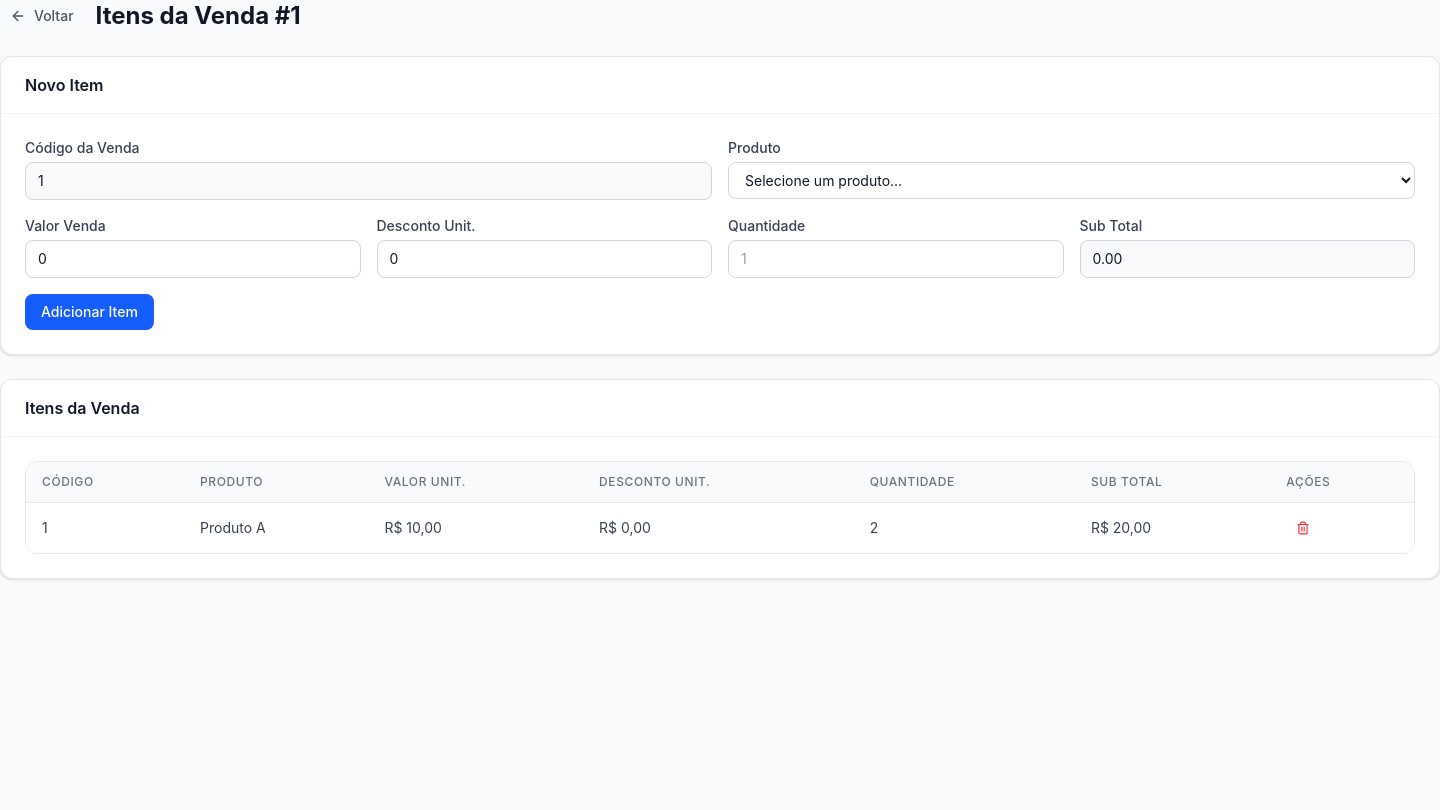
VendaItemPage › should close the confirm modal when cancelling delete
Click the button titled "Excluir": (1303, 528) [1286,515,1320,541]
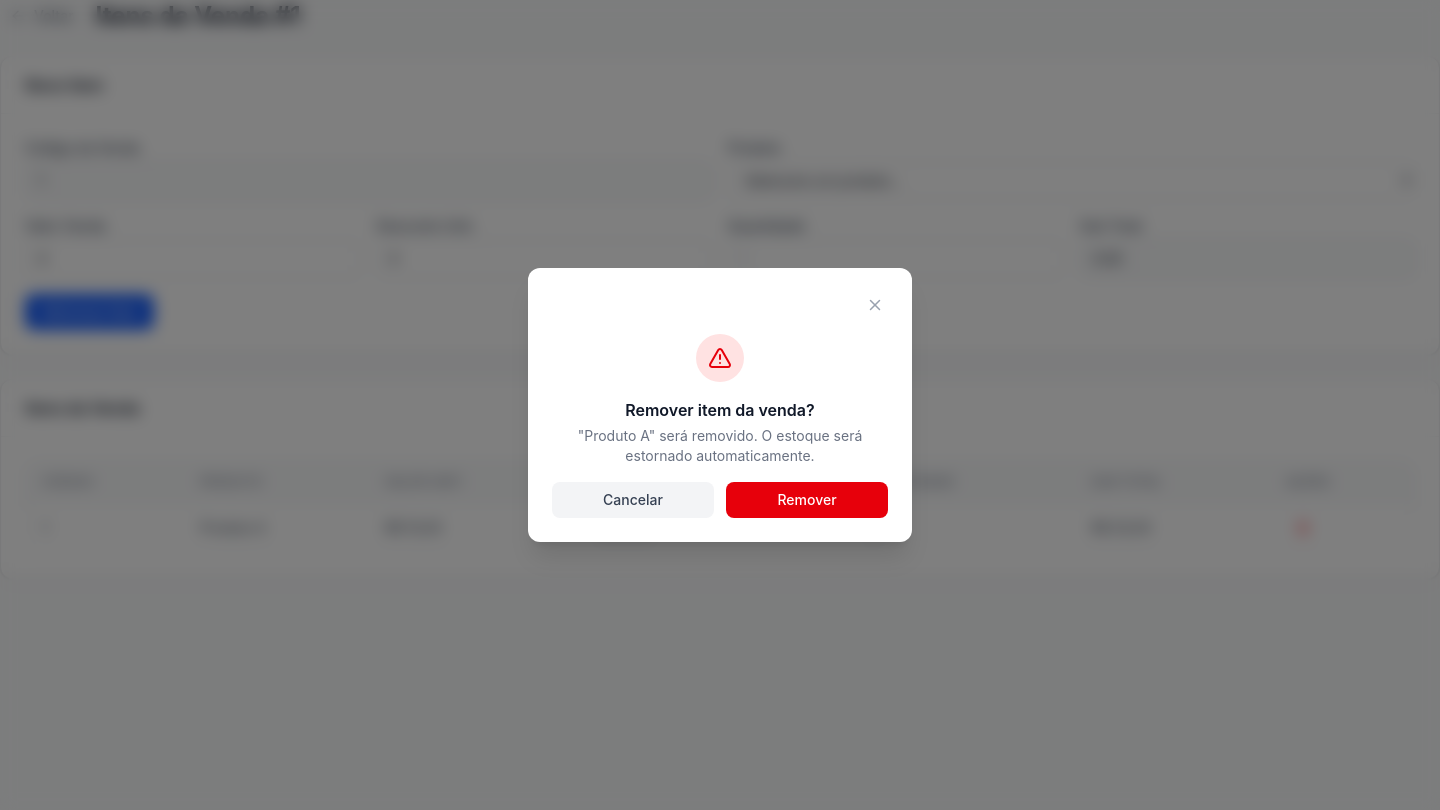
Click the button "Cancelar": (633, 500) [552,482,714,518]
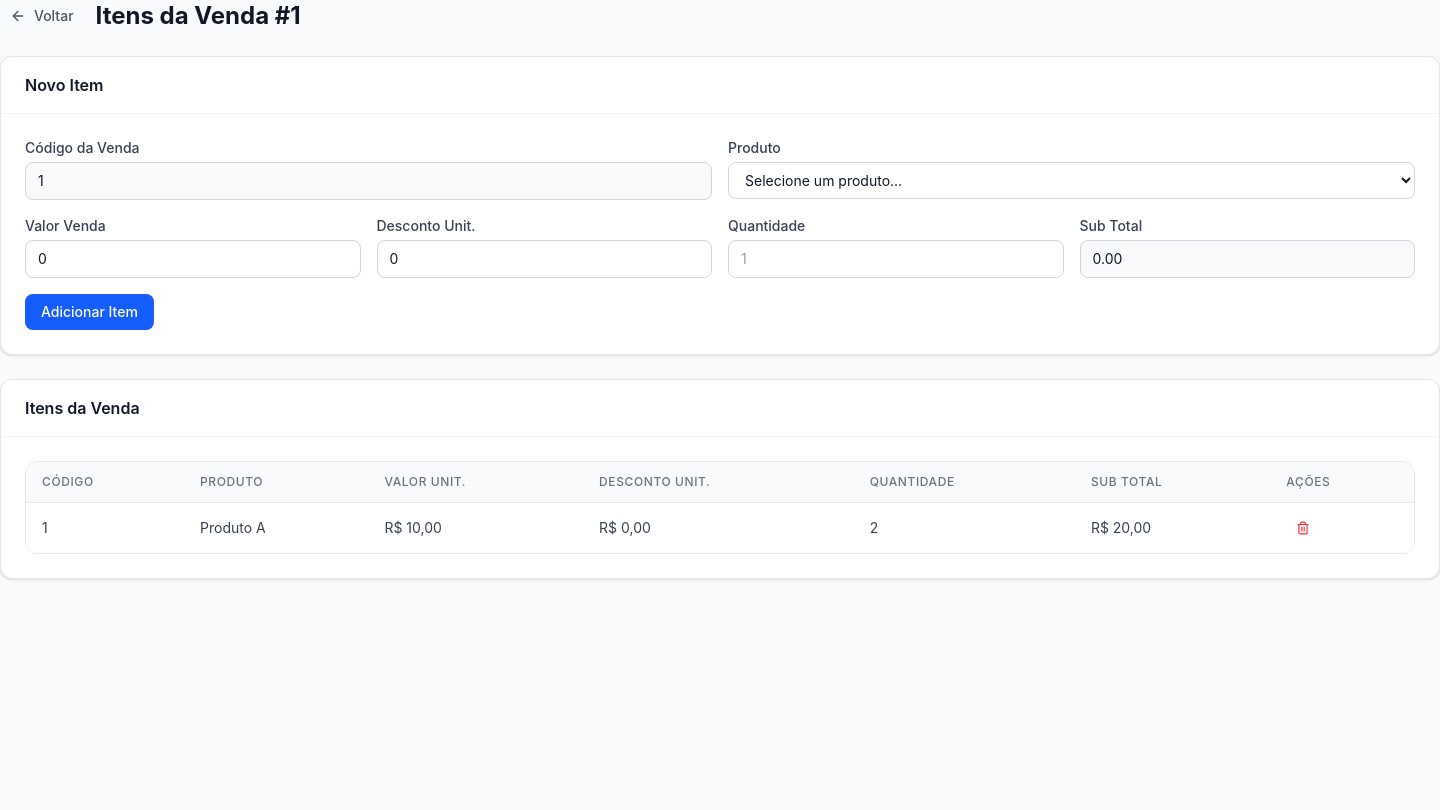
expect the text "Remover item da venda?" is gone: met
